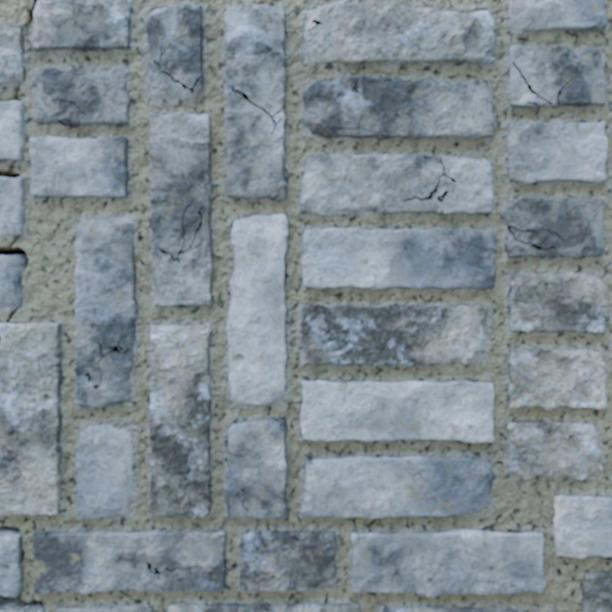brick: (352, 530, 544, 596), (149, 111, 212, 305), (303, 75, 493, 139), (224, 3, 286, 199), (33, 531, 224, 594), (149, 324, 211, 518), (305, 0, 493, 63), (74, 217, 136, 406), (301, 381, 493, 442), (302, 456, 492, 517), (302, 228, 495, 288), (0, 323, 60, 515), (300, 154, 492, 214), (301, 304, 487, 365), (227, 215, 287, 403), (506, 120, 606, 183), (224, 418, 286, 517), (508, 273, 608, 332), (30, 137, 127, 197), (508, 349, 605, 409), (240, 531, 335, 592), (509, 45, 604, 106), (505, 197, 603, 256), (34, 68, 128, 126), (507, 421, 599, 479), (146, 4, 203, 97), (76, 425, 131, 517), (33, 0, 129, 50), (554, 496, 611, 558), (508, 0, 606, 30), (169, 603, 358, 611), (0, 534, 22, 595), (0, 102, 23, 159), (0, 178, 23, 233), (0, 25, 22, 82), (582, 571, 611, 611), (0, 256, 21, 306), (383, 607, 513, 611), (56, 606, 151, 611), (0, 608, 43, 611), (275, 112, 283, 120), (62, 120, 69, 125)
crack: (152, 33, 202, 93), (512, 60, 573, 105), (229, 85, 284, 134), (400, 156, 457, 202), (507, 224, 560, 252), (0, 233, 29, 270), (0, 67, 26, 102), (0, 593, 45, 610), (23, 0, 38, 28), (0, 160, 21, 178), (5, 305, 21, 323), (306, 18, 323, 32), (0, 525, 20, 535), (57, 117, 73, 126), (525, 101, 538, 106), (21, 549, 25, 561), (489, 244, 495, 250), (22, 45, 25, 52)
